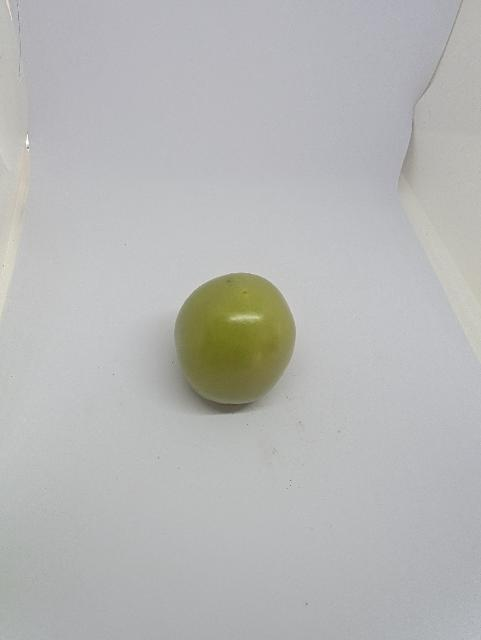green: (168, 267, 299, 416)
